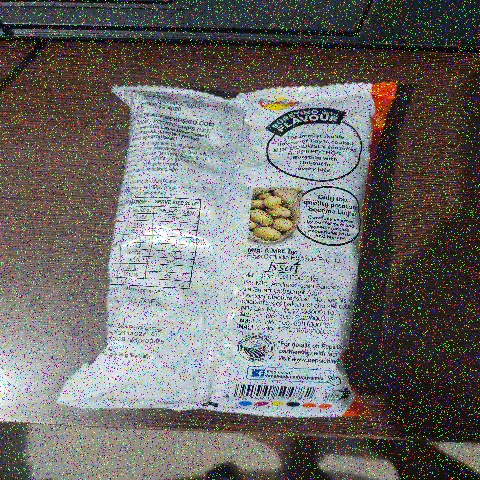lays_orange_pack: (67, 66, 378, 419)
